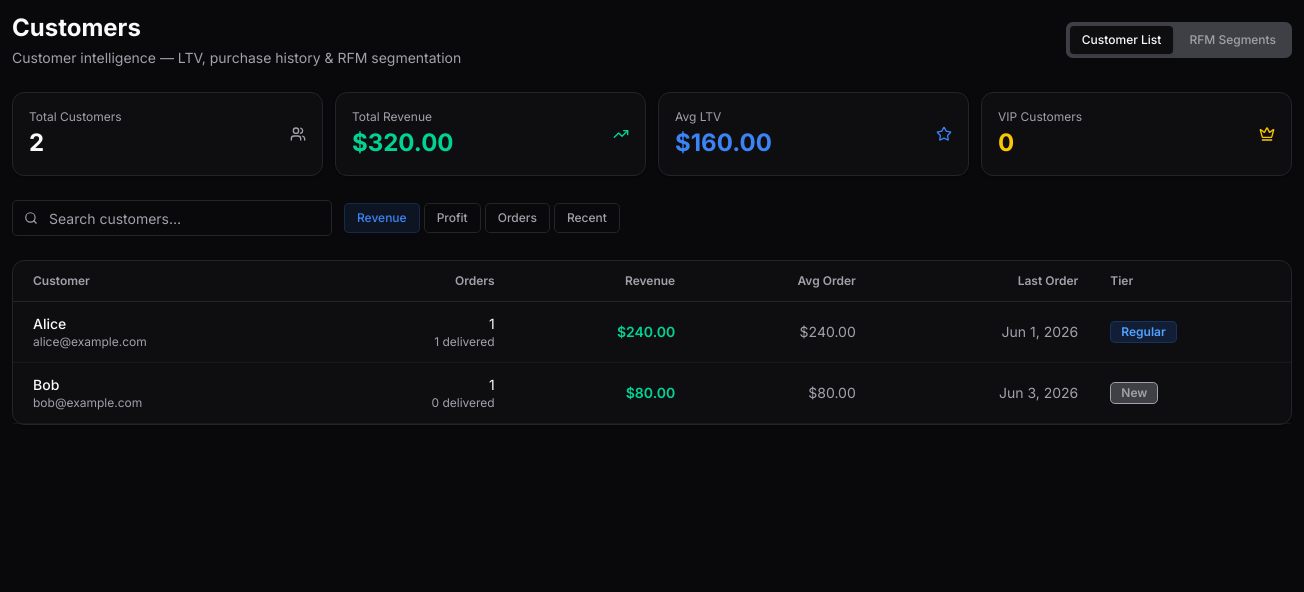
Test case: Customers page can switch to RFM view and show segment cards
This screenshot has width=1304, height=592.
Click the button "RFM Segments" at (1233, 40), box [1177,26,1288,54]
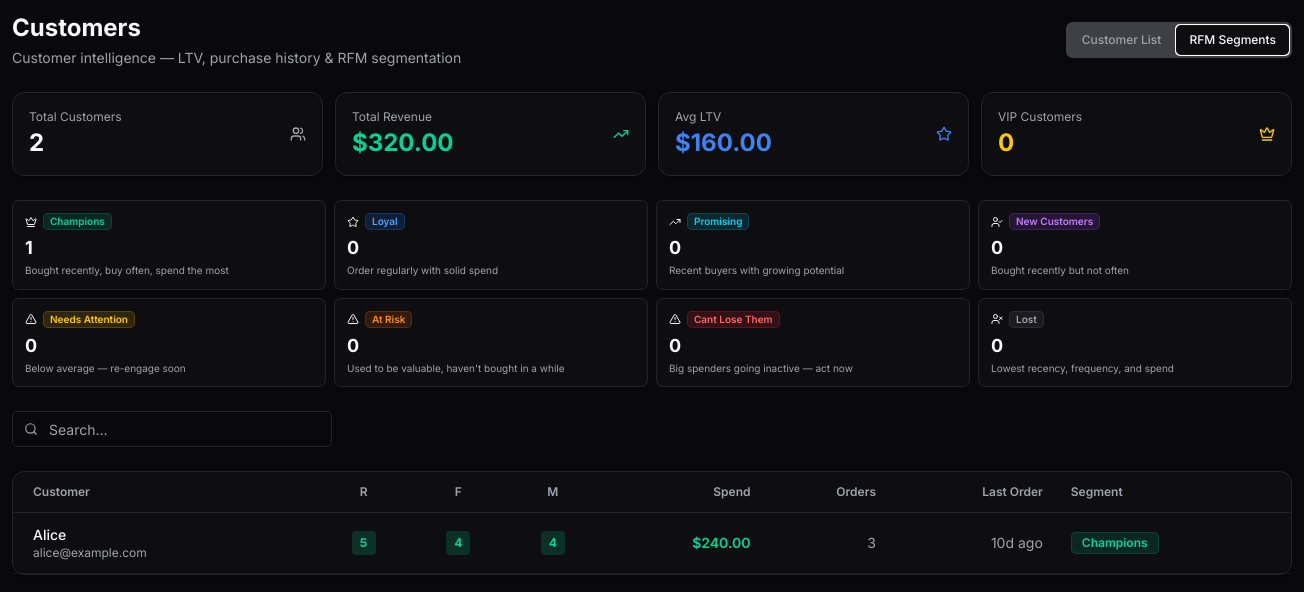
Expected: the 1st text "Champions" is shown, [43,213,112,230]
